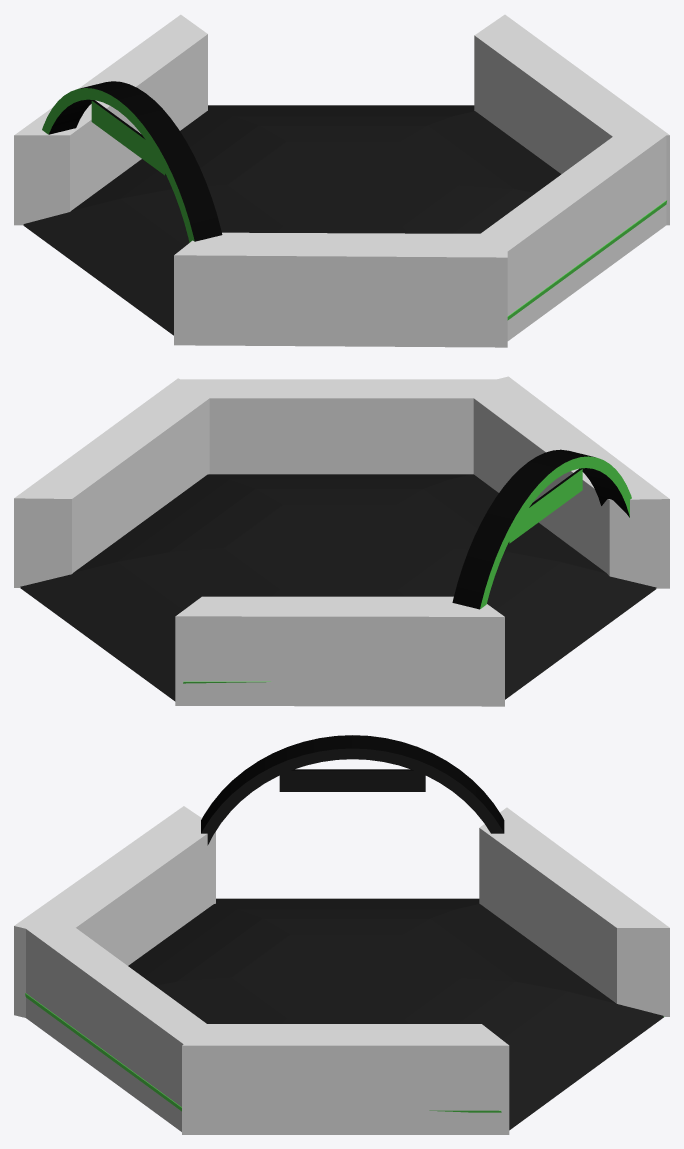
File: StartTile.FBX
The picture shows the model from 3 angles, top to bottom: view 1: azimuth 30°, elevation 25°; view 2: azimuth 150°, elevation 25°; view 3: azimuth 270°, elevation 25°; orthographic projection.
Parts seen in each view (by area): view 1: BaseColidBox01, RoadCOll001, BaseTiles00; view 2: BaseColidBox01, RoadCOll001, BaseTiles00; view 3: BaseColidBox01, RoadCOll001, BaseTiles00.
Part boxes in pixels (<box>): BaseColidBox01: <box>14,14,669,347</box>; RoadCOll001: <box>23,105,561,334</box>; BaseTiles00: <box>23,81,666,335</box>; BaseColidBox01: <box>14,376,669,706</box>; RoadCOll001: <box>20,474,656,699</box>; BaseTiles00: <box>20,449,656,701</box>; BaseColidBox01: <box>14,806,669,1134</box>; RoadCOll001: <box>128,898,663,1128</box>; BaseTiles00: <box>25,735,663,1130</box>.
Size of the model in its own units: 35.99 by 12.2 by 41.6.
